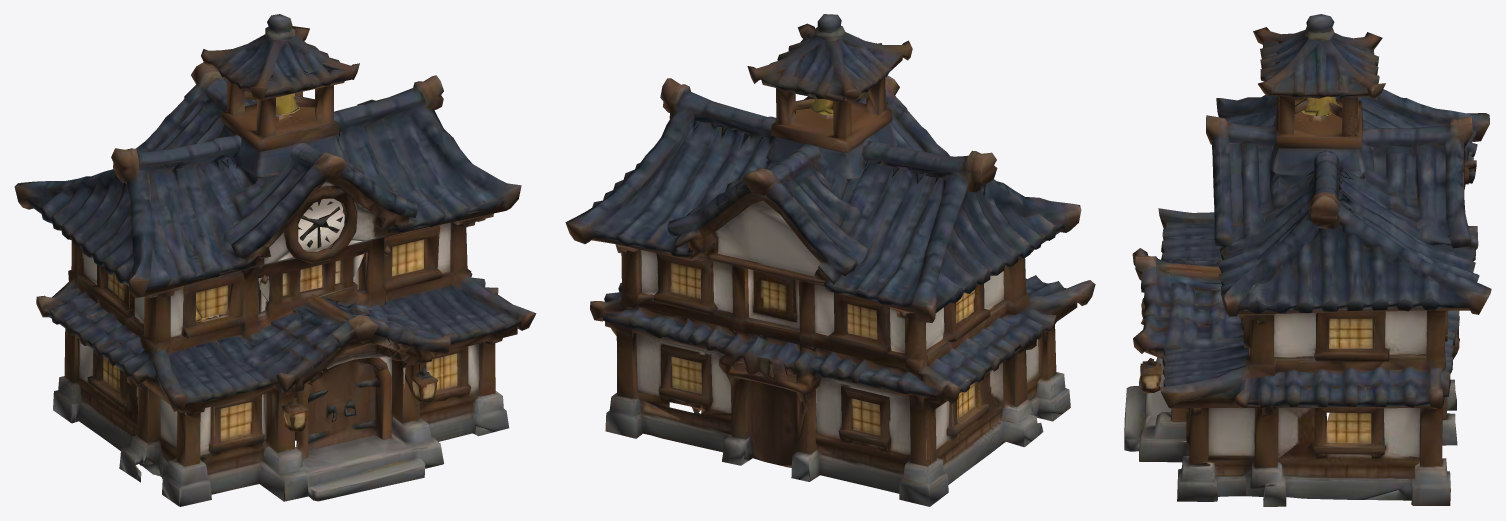
3 views of the same model, side by side, from view 1: azimuth 30°, elevation 25°; view 2: azimuth 150°, elevation 25°; view 3: azimuth 270°, elevation 25° (orthographic).
Parts seen in each view (by area): view 1: compact__civic_hall__native_mobile; view 2: compact__civic_hall__native_mobile; view 3: compact__civic_hall__native_mobile.
Boxes of the visible parts, x1,y1,x2,y2 form: compact__civic_hall__native_mobile: [14, 14, 536, 506]; compact__civic_hall__native_mobile: [565, 14, 1095, 506]; compact__civic_hall__native_mobile: [1124, 14, 1491, 506].
Size of the model in its own units: 1 by 0.9727 by 0.7901.
1 material, 1 textured.
